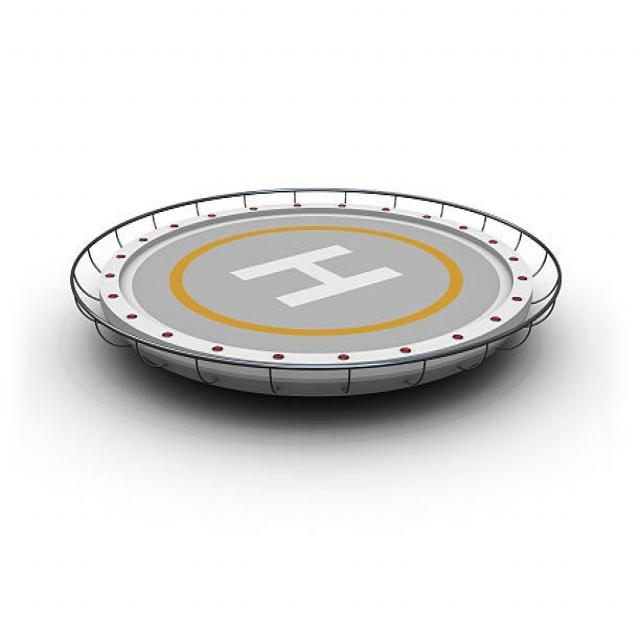helipad: (163, 216, 464, 343)
